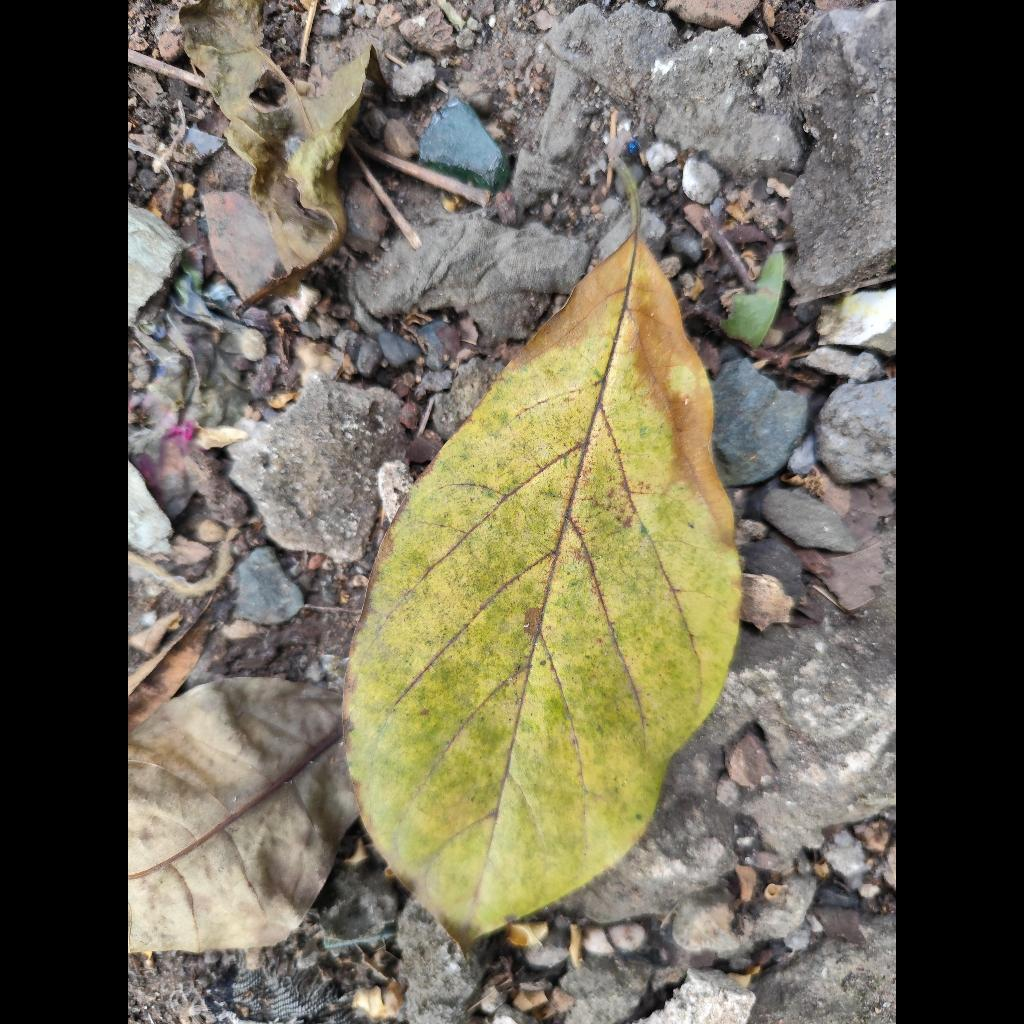deficiencia_nutricional: (344, 232, 741, 947)
